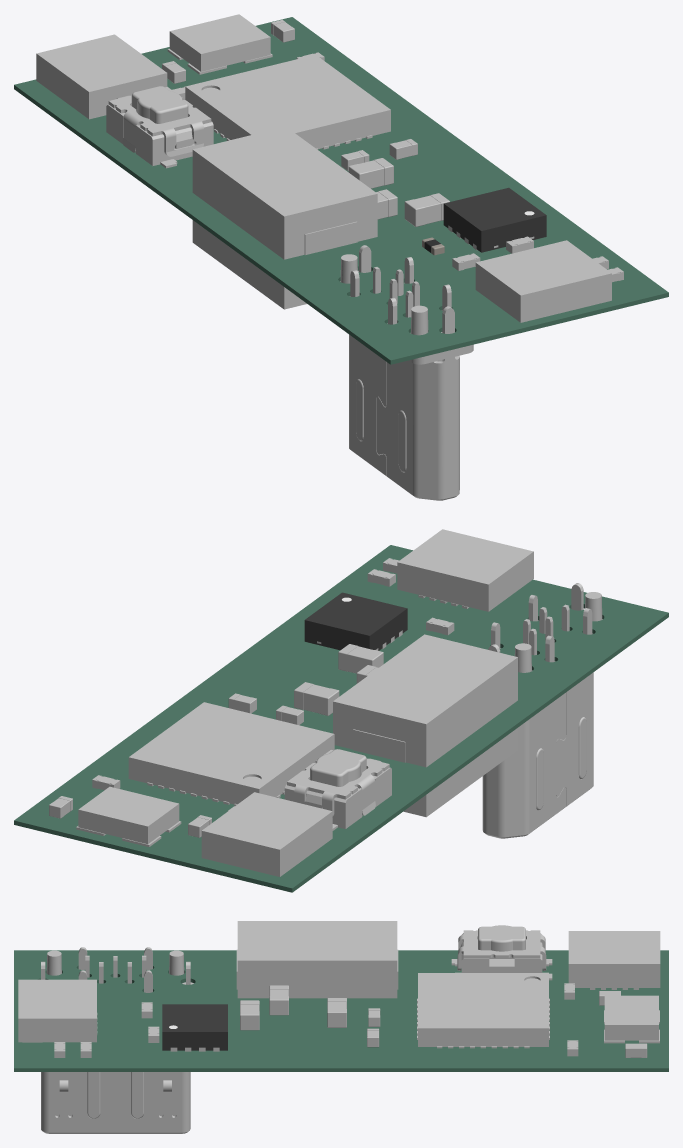
Rendered from usb2_addon.gltf.
The picture shows the model from 3 angles, top to bottom: view 1: azimuth 30°, elevation 25°; view 2: azimuth 150°, elevation 25°; view 3: azimuth 270°, elevation 25°; orthographic projection. The views are drawn at different scales.
Bounding box in the file's own units: 0.0128 × 0.00938 × 0.03.
